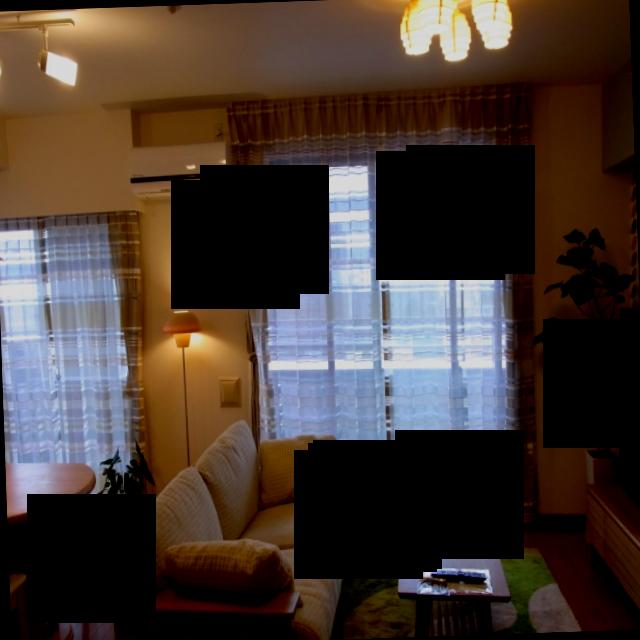natural desk: (4, 455, 103, 640)
natural sofa: (103, 406, 352, 640)
